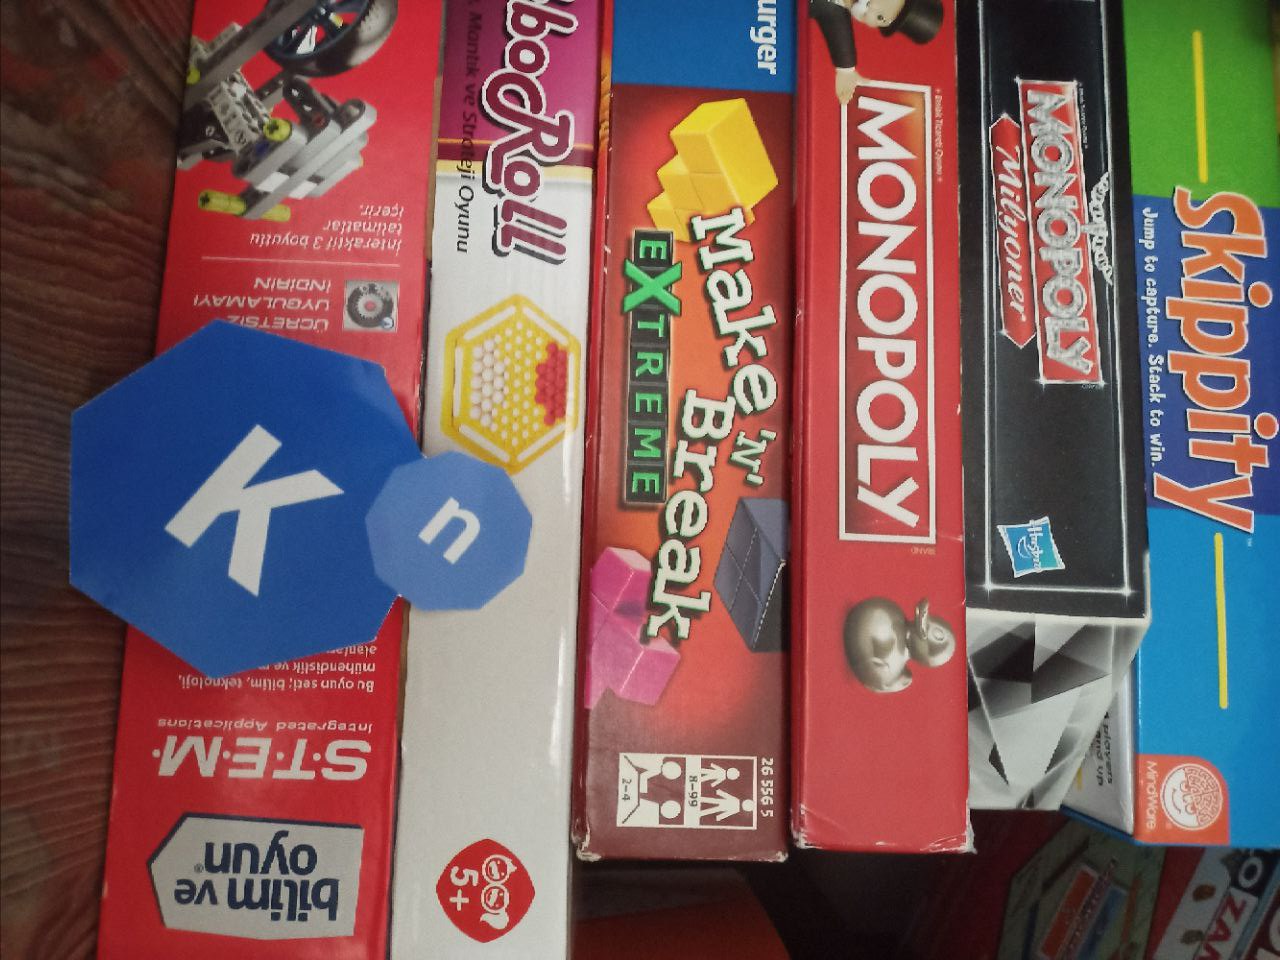knative: (67, 314, 533, 678)
